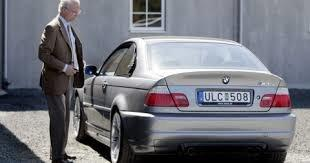license-plates: (198, 90, 254, 106)
